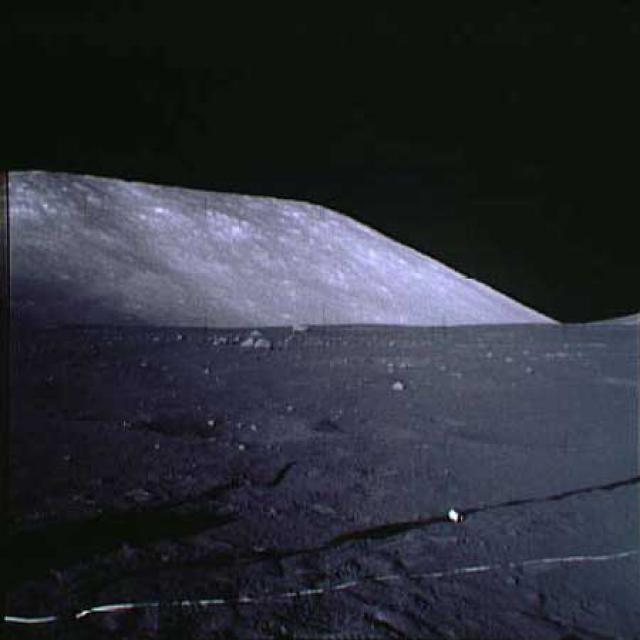crater: (103, 402, 377, 446)
rock: (239, 326, 275, 348), (386, 373, 408, 394)
